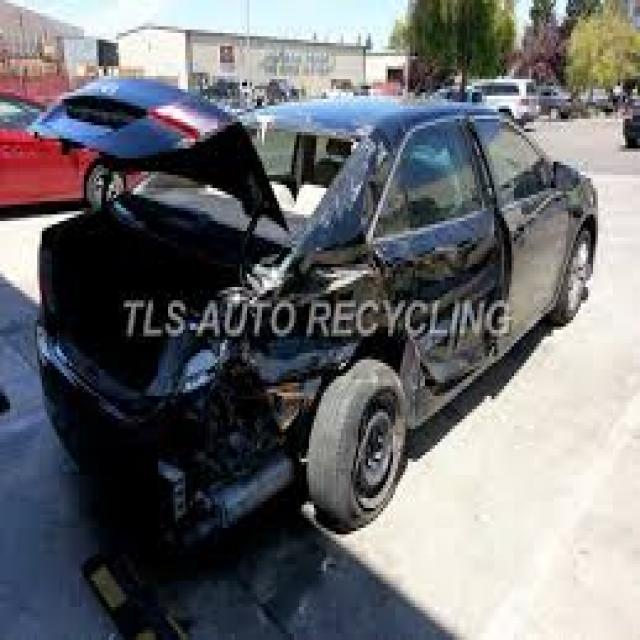severe: (58, 83, 490, 524)
